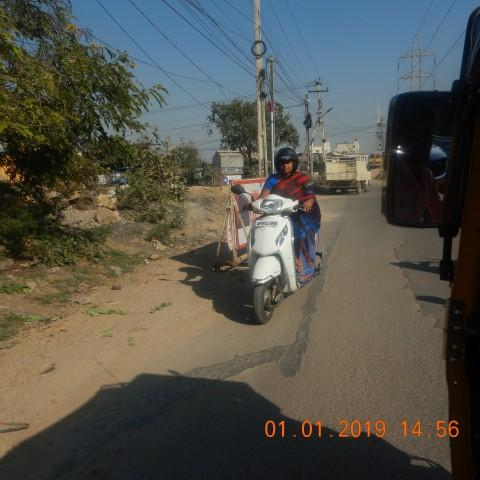plate: (255, 219, 278, 228)
